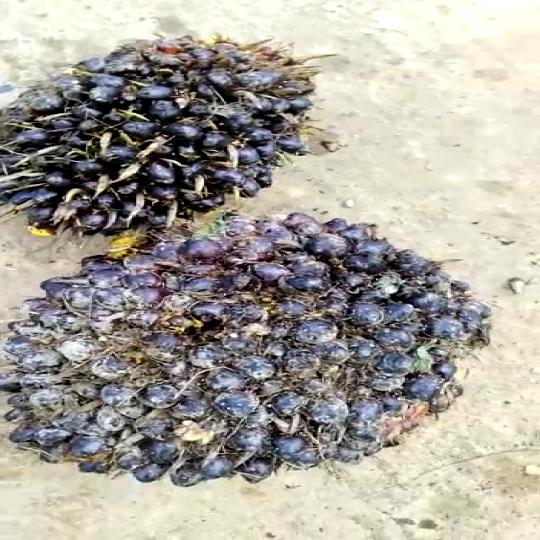mentah: (0, 213, 497, 487), (0, 31, 342, 242)
